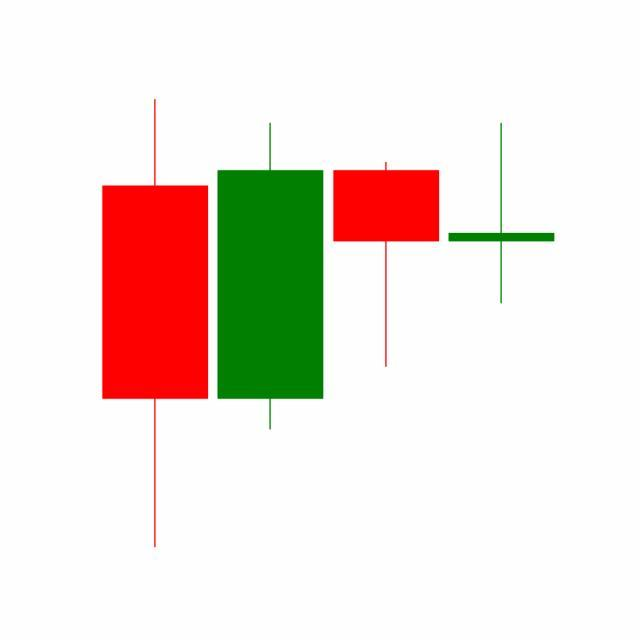Spinning Top: (444, 121, 560, 307)
